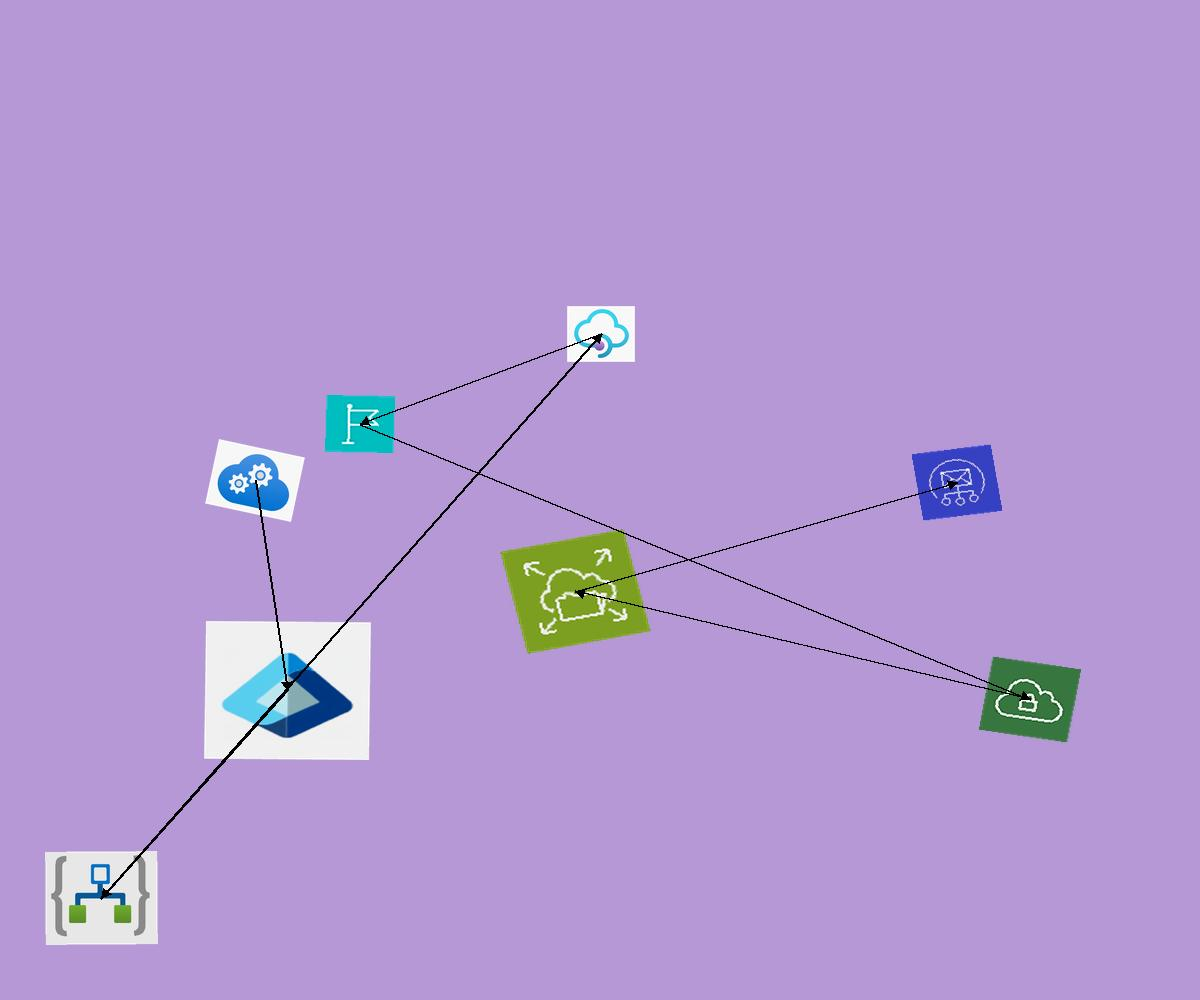AWS-EFS: (500, 529, 651, 654)
AWS-Private_vpc: (978, 656, 1082, 743)
AWS-Region: (325, 395, 395, 453)
AWS-Simple-Email-Service: (911, 444, 1003, 521)
Azure_api_gateway: (567, 306, 635, 362)
Azure_cloud_services: (205, 439, 305, 522)
Azure_integration-204-Logic-Apps: (45, 851, 158, 945)
Azure_microsoft_entra: (204, 621, 371, 760)
